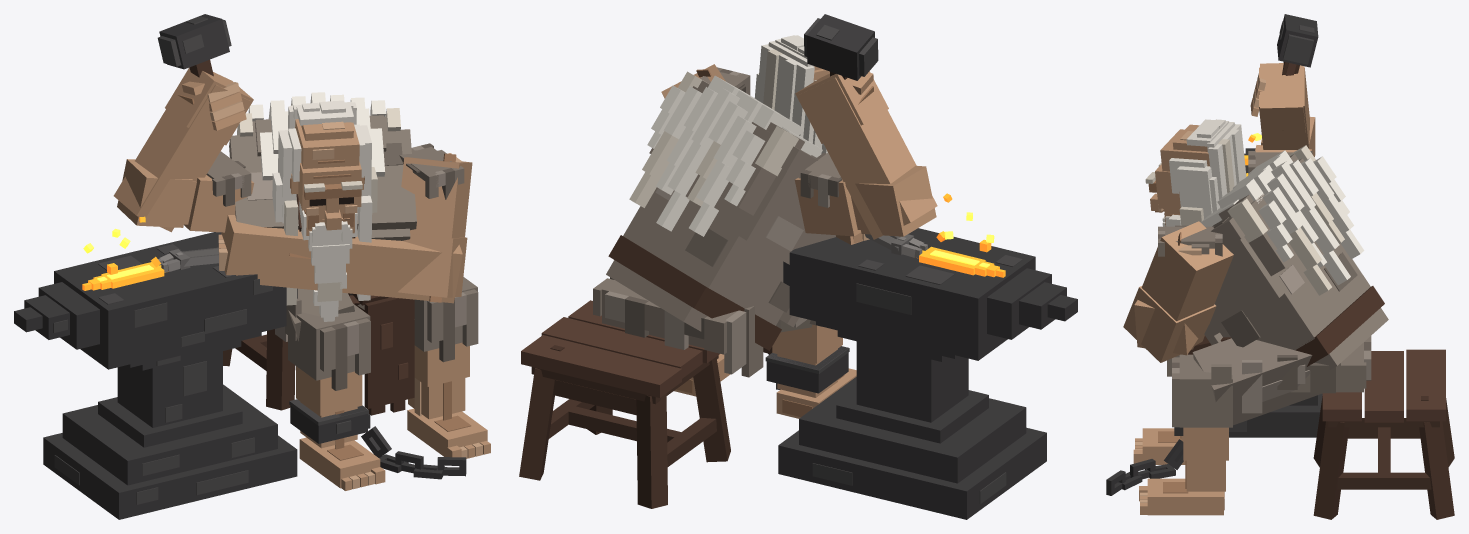
The model's file is Lobby_SmithNPC.glb.
The picture shows the model from 3 angles, left to right: view 1: azimuth 30°, elevation 25°; view 2: azimuth 150°, elevation 25°; view 3: azimuth 270°, elevation 25°; orthographic projection. The views are drawn at different scales.
Parts seen in each view (by area): view 1: Anvil_Charcoal_Iron, ArmL_Tan_Skin, ArmR_Tan_Skin, Legs_Tan_Skin, Legs_Grey_Cloth, Anvil_Charcoal_IronLight, Torso_Grey_Cloth, Legs_DarkBrown_WoodLeather, Head_Cream_Hair, Head_Tan_Skin, HairBack_Cream_Hair, Beard_Cream_Hair (+19 smaller); view 2: Anvil_Charcoal_Iron, Torso_Grey_Cloth, ArmR_Tan_Skin, Stool_DarkBrown_WoodLeather, HairBack_Cream_Hair, Stool_Brown_WoodTop, Torso_DarkBrown_WoodLeather, Legs_Grey_Cloth, HairBack_Cream_HairLock, Legs_Tan_Skin, Head_Cream_Hair, Anvil_Charcoal_IronLight (+11 smaller); view 3: Torso_Grey_Cloth, Legs_Grey_Cloth, Stool_DarkBrown_WoodLeather, HairBack_Cream_Hair, ArmL_Tan_Skin, Stool_Brown_WoodTop, Legs_Tan_Skin, Head_Cream_Hair, ArmR_Tan_Skin, HairBack_Cream_HairLock, Anvil_Charcoal_Iron, Torso_DarkBrown_WoodLeather (+11 smaller).
Part boxes in pixels (box(x1,y1,x2,y2)): Anvil_Charcoal_Iron: box(14, 232, 297, 519); ArmL_Tan_Skin: box(218, 157, 472, 303); ArmR_Tan_Skin: box(113, 67, 254, 232); Legs_Tan_Skin: box(296, 342, 490, 490); Legs_Grey_Cloth: box(285, 277, 478, 380); Anvil_Charcoal_IronLight: box(53, 244, 272, 504); Torso_Grey_Cloth: box(229, 115, 416, 240); Legs_DarkBrown_WoodLeather: box(352, 293, 414, 415); Head_Cream_Hair: box(272, 100, 372, 300); Head_Tan_Skin: box(291, 119, 363, 235); HairBack_Cream_Hair: box(248, 92, 385, 180); Beard_Cream_Hair: box(299, 201, 357, 321); Anvil_Charcoal_Iron: box(778, 228, 1077, 519); Torso_Grey_Cloth: box(606, 80, 835, 331); ArmR_Tan_Skin: box(794, 71, 937, 239); Stool_DarkBrown_WoodLeather: box(519, 345, 730, 508); HairBack_Cream_Hair: box(647, 75, 822, 236); Stool_Brown_WoodTop: box(521, 300, 719, 397); Torso_DarkBrown_WoodLeather: box(608, 235, 781, 350); Legs_Grey_Cloth: box(593, 278, 819, 377); HairBack_Cream_HairLock: box(629, 71, 798, 207); Legs_Tan_Skin: box(674, 324, 856, 418); Head_Cream_Hair: box(754, 35, 827, 154); Anvil_Charcoal_IronLight: box(812, 255, 1022, 504); Torso_Grey_Cloth: box(1204, 154, 1388, 369); Legs_Grey_Cloth: box(1167, 336, 1371, 427); Stool_DarkBrown_WoodLeather: box(1313, 396, 1454, 519); HairBack_Cream_Hair: box(1201, 150, 1364, 285); ArmL_Tan_Skin: box(1123, 221, 1233, 362); Stool_Brown_WoodTop: box(1322, 349, 1445, 422); Legs_Tan_Skin: box(1133, 427, 1228, 515); Head_Cream_Hair: box(1168, 119, 1246, 226); ArmR_Tan_Skin: box(1250, 63, 1315, 156); HairBack_Cream_HairLock: box(1227, 145, 1344, 295); Anvil_Charcoal_Iron: box(1229, 148, 1322, 437); Torso_DarkBrown_WoodLeather: box(1295, 286, 1384, 366).
Size of the model in its own units: 1.8 by 1.73 by 1.37.
